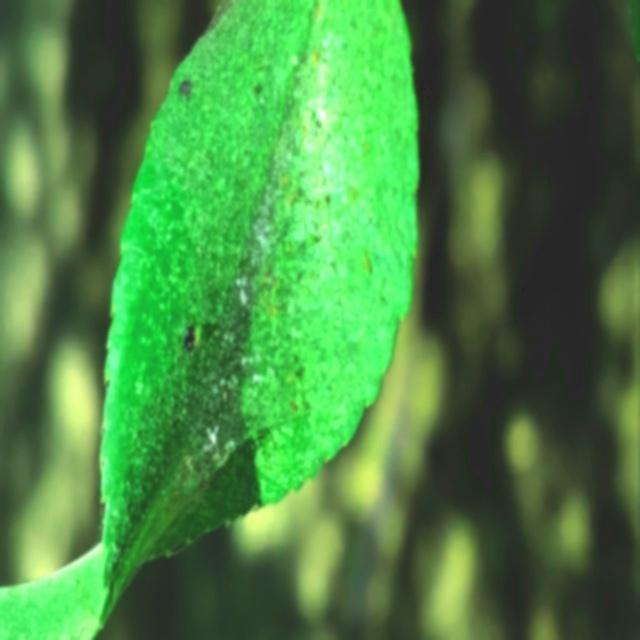shot_hole: (80, 0, 314, 401)
